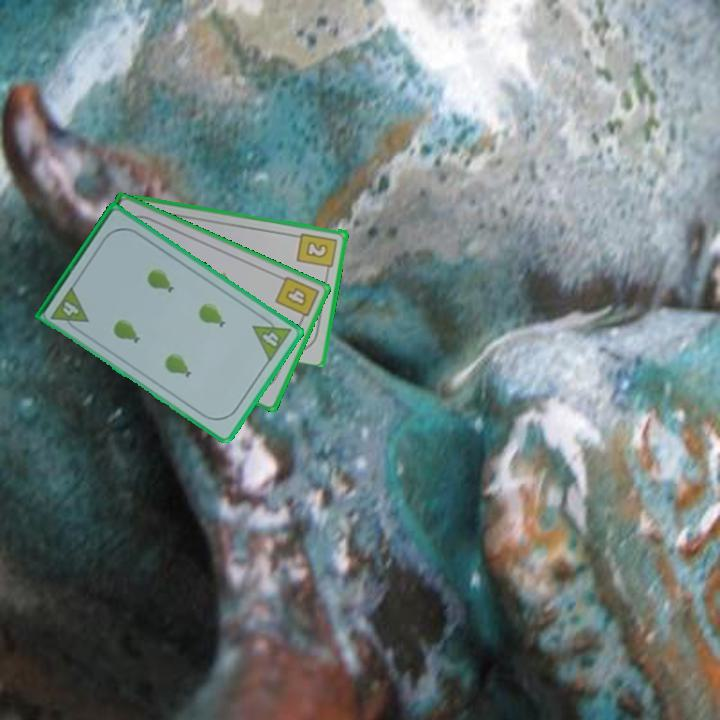2b: (294, 229, 340, 276)
4b: (272, 272, 322, 326)
4p: (249, 311, 294, 365), (47, 283, 91, 335)
